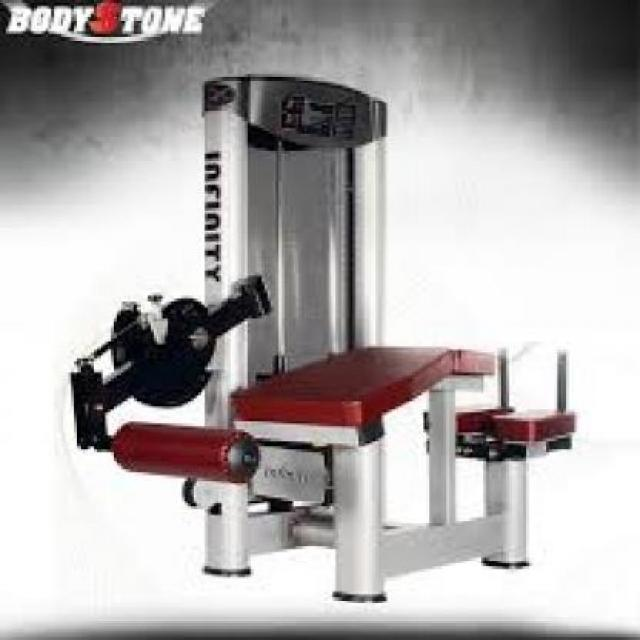reg curl machine: (68, 72, 582, 608)
